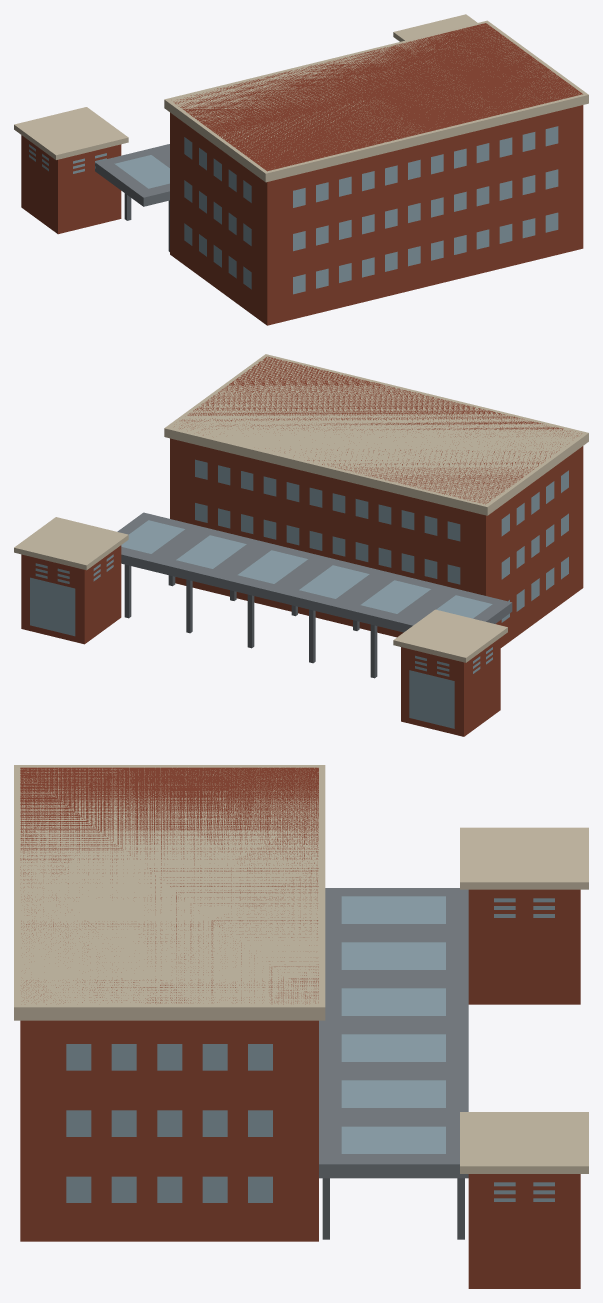
The picture shows the model from 3 angles, top to bottom: view 1: azimuth 30°, elevation 25°; view 2: azimuth 150°, elevation 25°; view 3: azimuth 270°, elevation 25°; orthographic projection. The views are drawn at different scales.
Parts seen in each view (by area): view 1: jamaica-station-lod1; view 2: jamaica-station-lod1; view 3: jamaica-station-lod1.
Part boxes in pixels (left/top/right/bottom): jamaica-station-lod1: left=14, top=14, right=588, bottom=325; jamaica-station-lod1: left=14, top=354, right=588, bottom=736; jamaica-station-lod1: left=14, top=765, right=588, bottom=1288.
Bounding box in the file's own units: 94.39 × 30.8 × 67.73.
